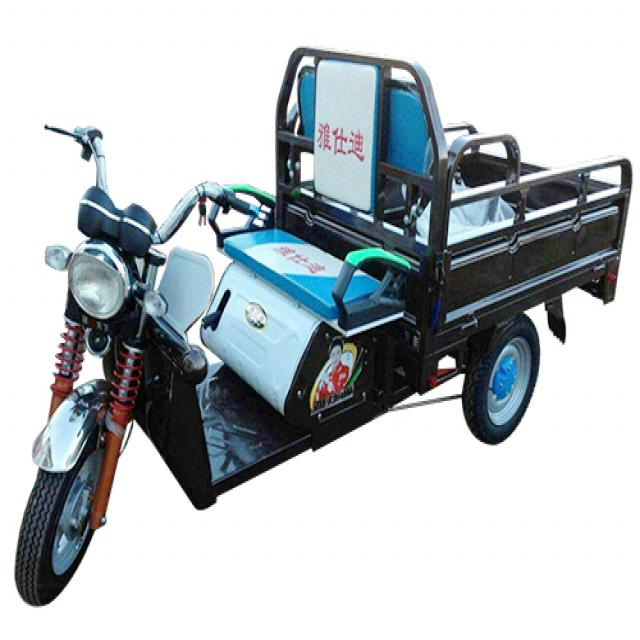tricycle: (9, 46, 636, 611)
